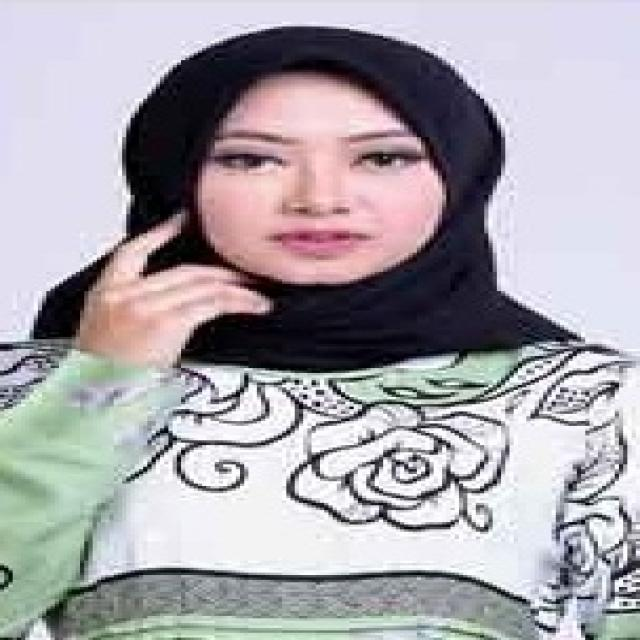head: (148, 24, 538, 291)
